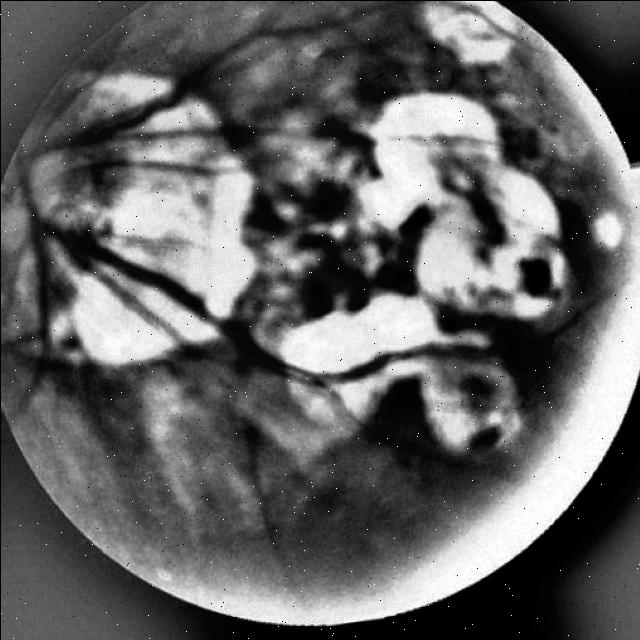Nerves: (13, 150, 493, 401), (63, 82, 227, 146), (68, 155, 214, 176)
Optic Disk: (0, 68, 257, 365)
